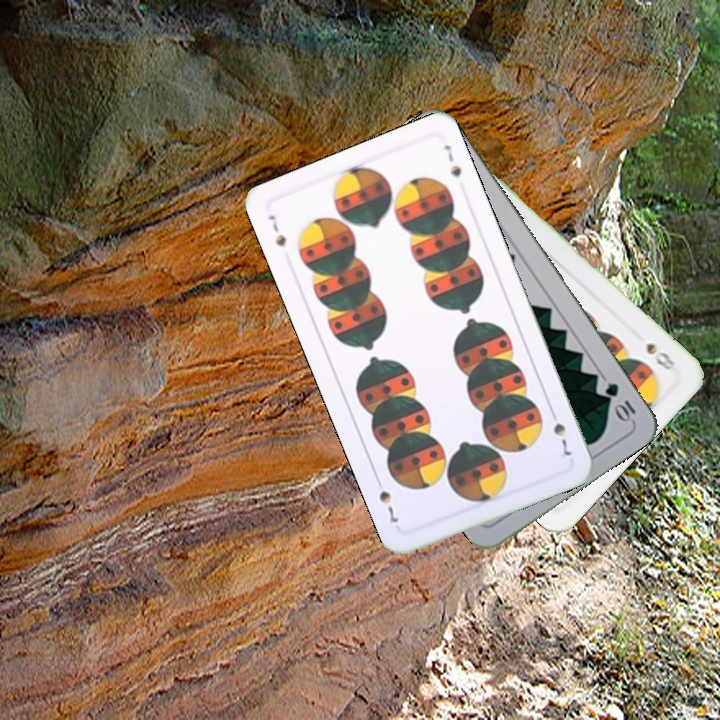G10: (600, 378, 639, 425)
S7: (546, 405, 575, 459), (264, 210, 289, 250)
S8: (642, 338, 678, 373)
